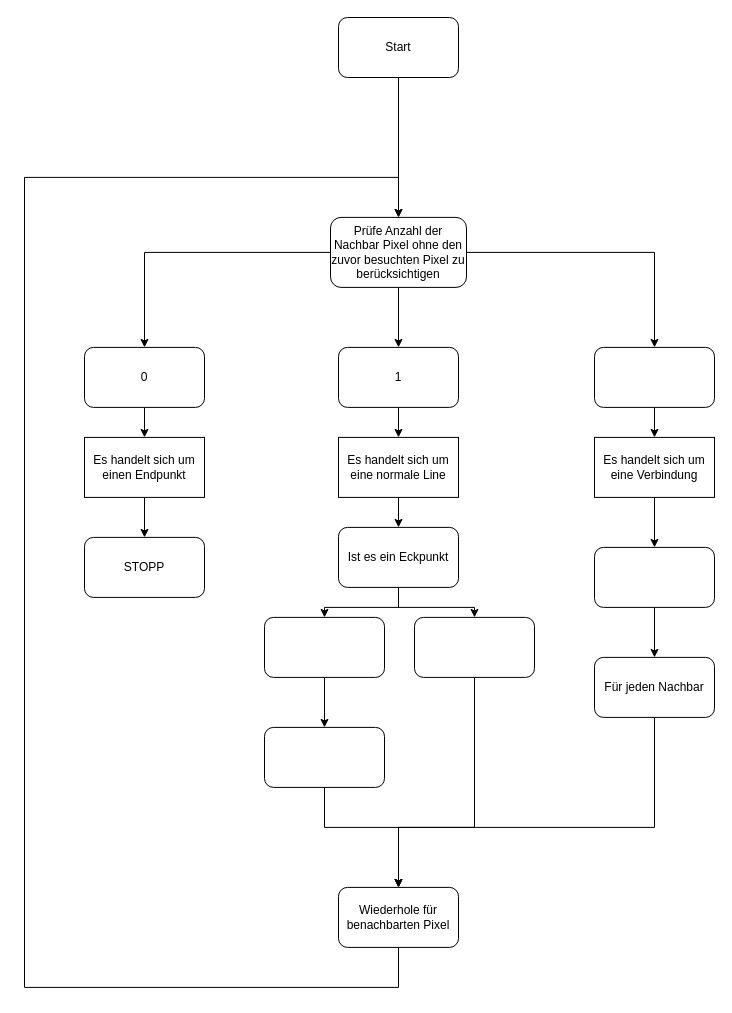
The diagram is 732 pixels wide and 1013 high, and some of its shapes have lost their labels. Here are the shapes that lost their labels. From the top down, the centre of each, then its label:
At point 654,376: "mehr".
At point 654,576: "Füge einen Verbindungspunkt zum Graph hinzu".
At point 324,646: "JA".
At point 474,646: "NEIN".
At point 324,756: "Füge Eckpunkt in Graph hinzu".
